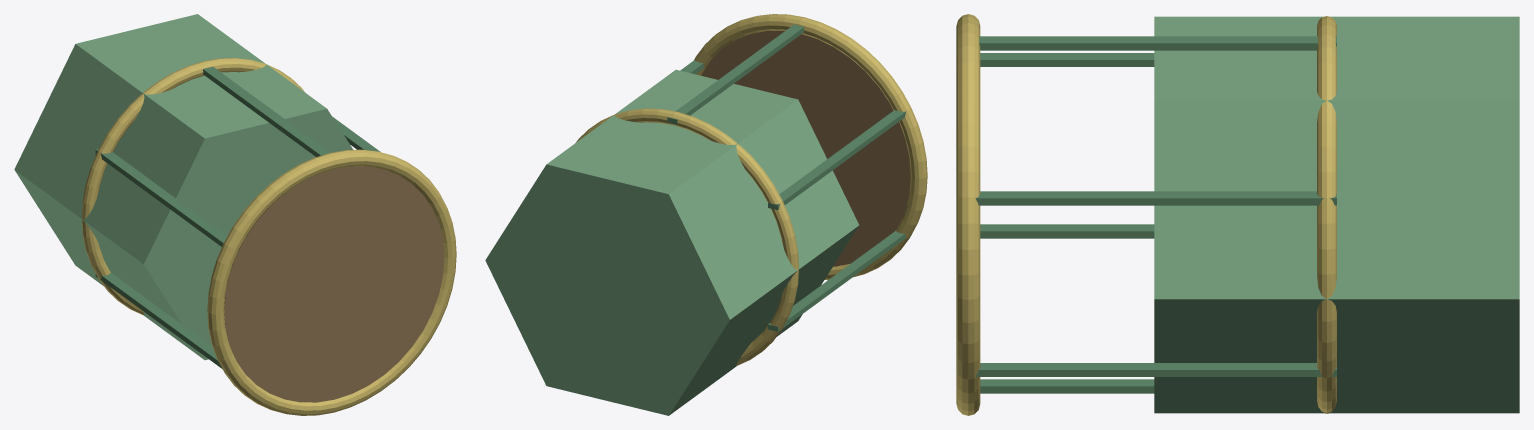
File: pot_rare_2.glb
3 renders of one model, left to right at view 1: azimuth 30°, elevation 25°; view 2: azimuth 150°, elevation 25°; view 3: azimuth 270°, elevation 25°, orthographic. The views are drawn at different scales.
Parts seen in each view (by area): view 1: world; view 2: world; view 3: world.
Part boxes in pixels (<box>): world: <box>14,14,456,415</box>; world: <box>485,14,927,415</box>; world: <box>956,14,1519,415</box>.
Bounding box in the file's own units: 6.06 × 6.06 × 8.48.
